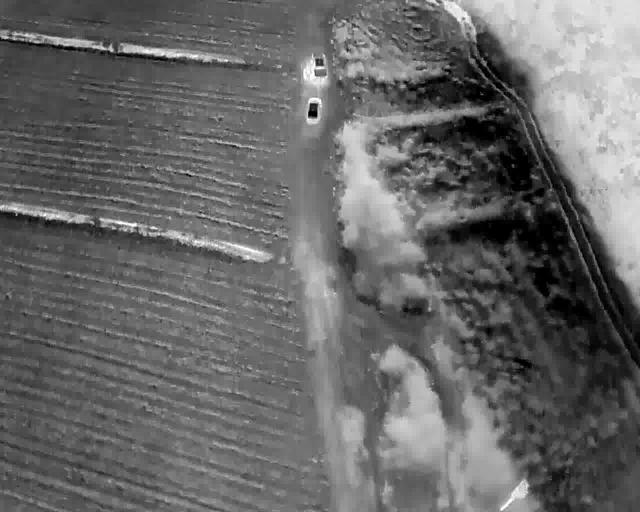car: (312, 51, 328, 81), (307, 96, 321, 122)
